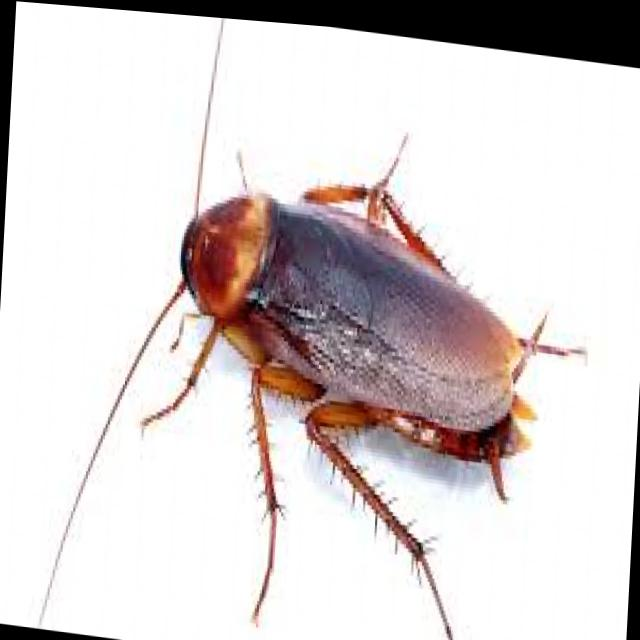Cockroach: (23, 1, 607, 640)
